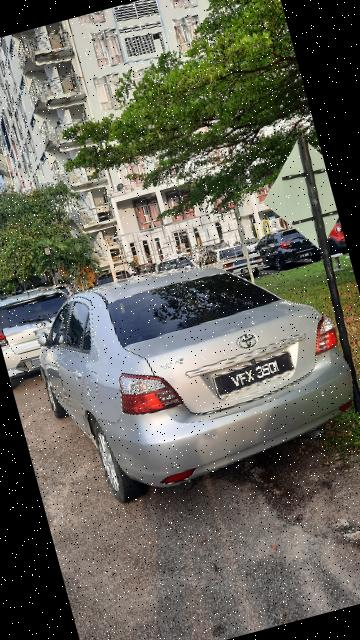License_Plate: (206, 344, 306, 401)
car: (19, 228, 360, 532)
